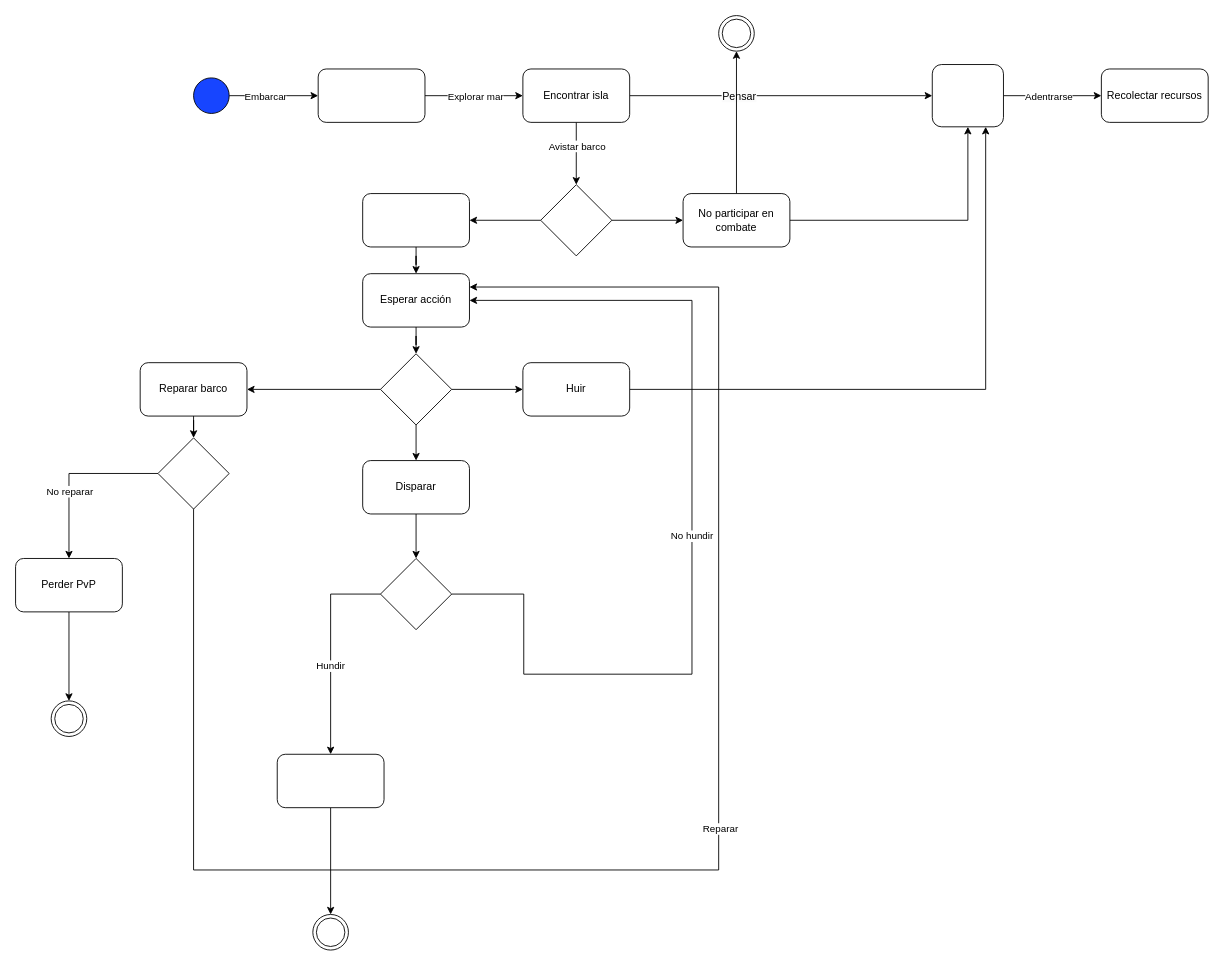
The diagram is 1224 pixels wide and 966 high, and some of its shapes have lost their labels. The box of each missing label's shape, as (x1, y1, x2, y2) in pixels:
Celebrar: (276, 753, 384, 808)
Explorar isla: (931, 64, 1003, 127)
Navegar: (317, 68, 425, 122)
Participar en combate: (362, 193, 469, 247)
